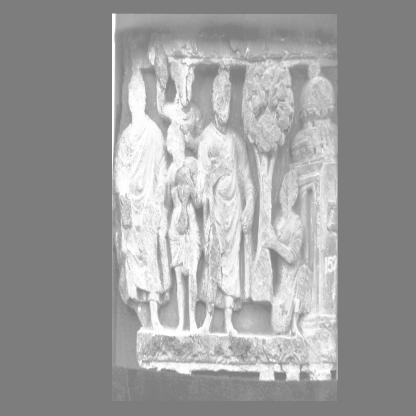buddha-standing: (198, 70, 255, 334)
